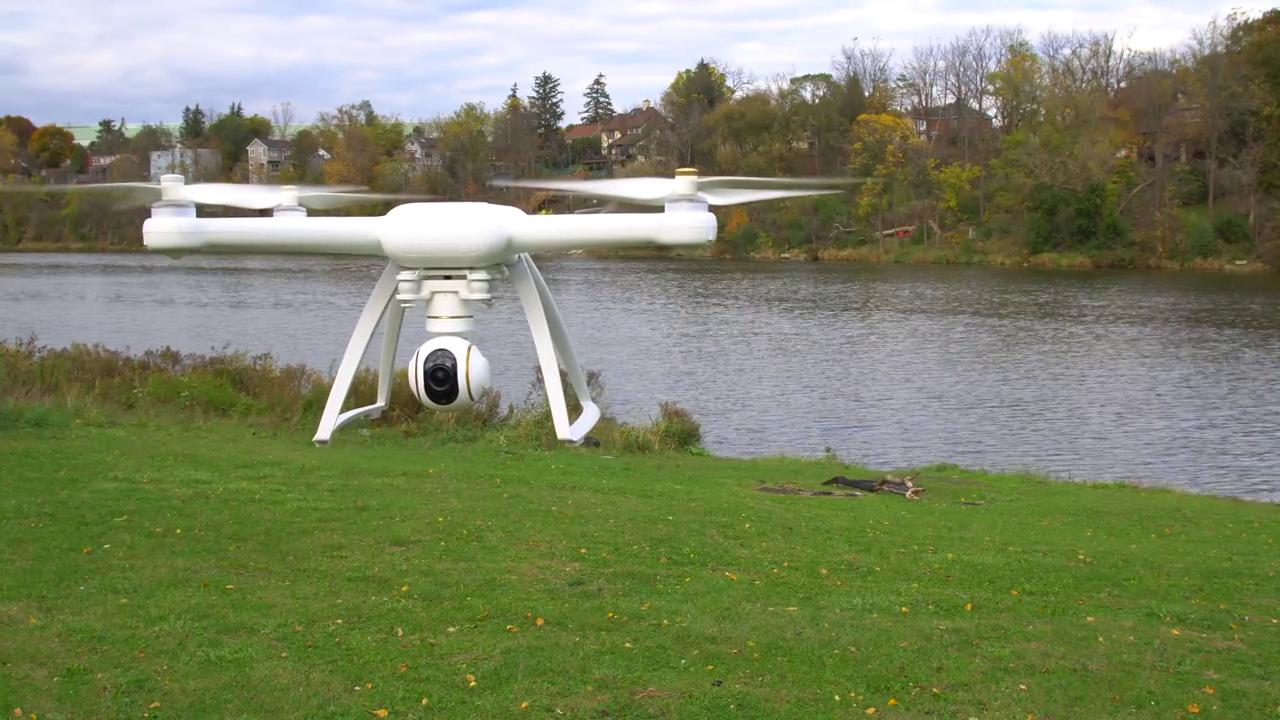drone: (72, 148, 858, 318)
